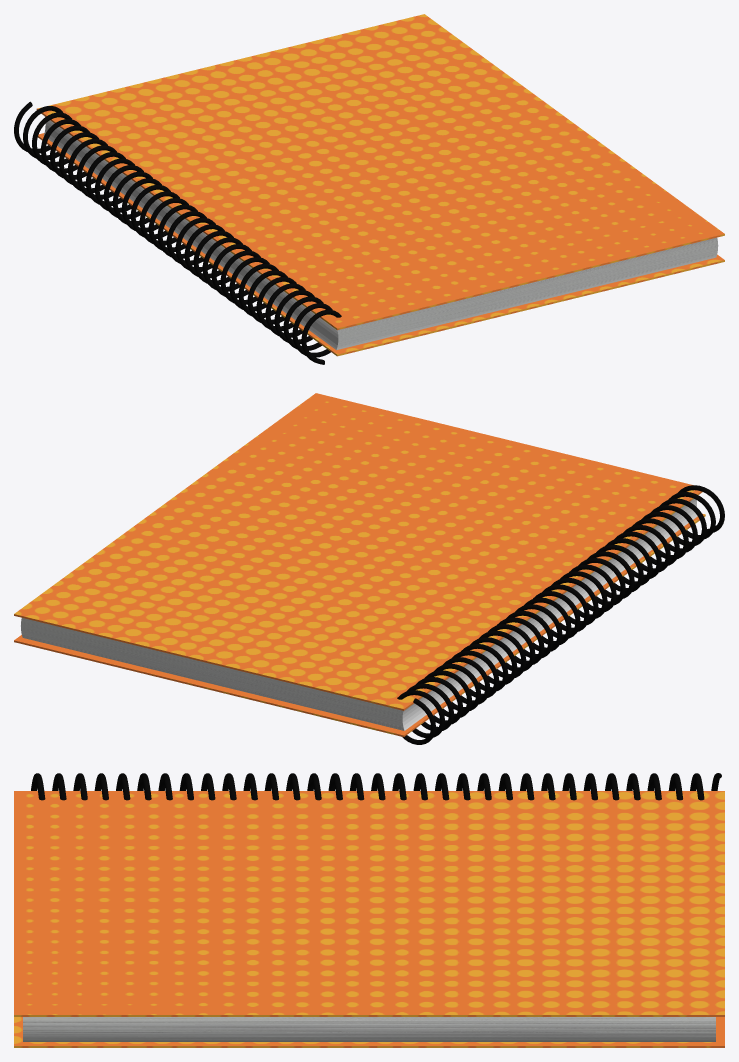
Rendered from SpiralNoteBookOrange.fbx.
3 views of the same model, one above another, from view 1: azimuth 30°, elevation 25°; view 2: azimuth 150°, elevation 25°; view 3: azimuth 270°, elevation 25° (orthographic). The views are drawn at different scales.
Visible parts, largest first — view 1: Cover, Ring, Paper, Note; view 2: Cover, Ring, Paper, Note; view 3: Cover, Paper, Ring.
Part boxes in pixels (left/top/right/bottom): Cover: left=36, top=14, right=724, bottom=356; Ring: left=14, top=101, right=341, bottom=364; Paper: left=336, top=237, right=718, bottom=349; Note: left=43, top=116, right=338, bottom=349; Cover: left=14, top=393, right=705, bottom=737; Ring: left=397, top=485, right=724, bottom=744; Paper: left=21, top=618, right=404, bottom=730; Note: left=402, top=499, right=697, bottom=730; Cover: left=14, top=791, right=724, bottom=1047; Paper: left=23, top=1017, right=715, bottom=1041; Ring: left=31, top=773, right=721, bottom=800.
Size of the model in its own units: 47.83 by 5.5 by 60.
3 materials, 2 textured.
